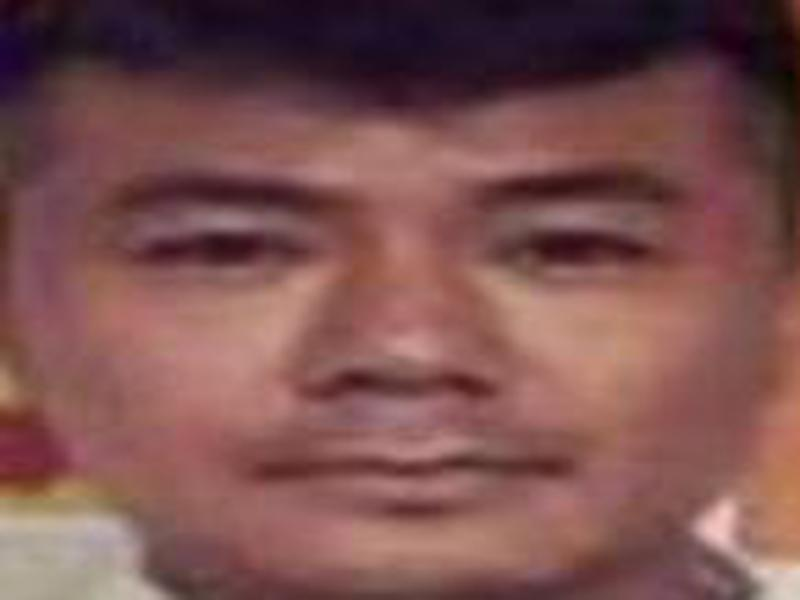without_mask: (13, 77, 782, 600)
